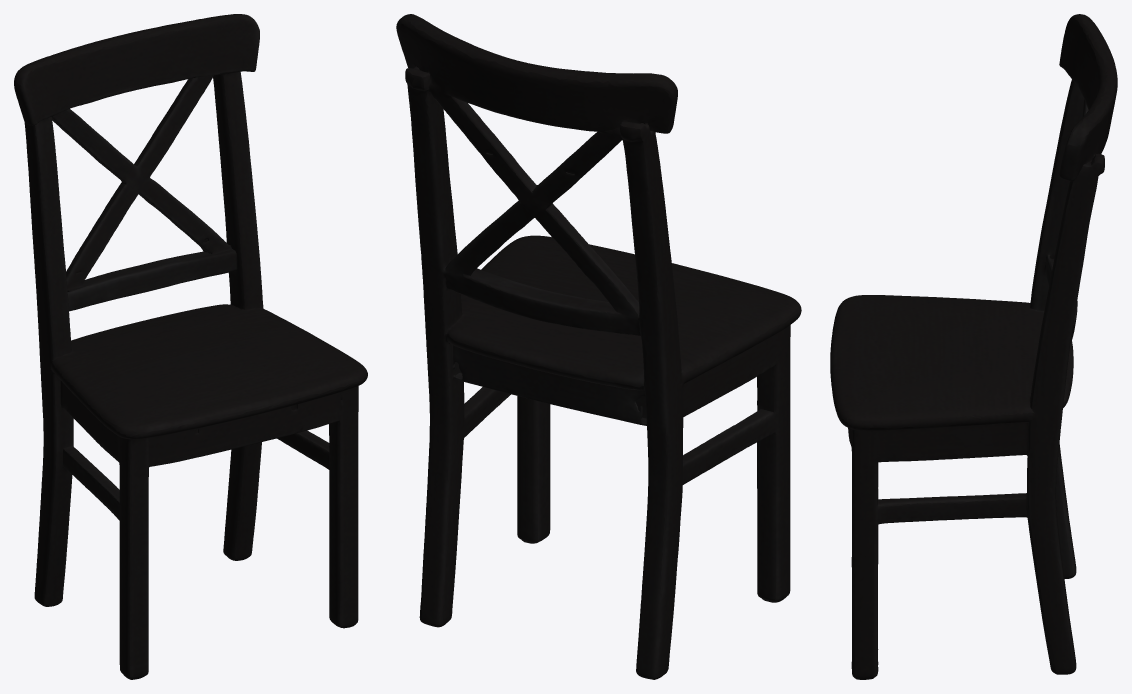
Rendered from item_ccde9378.glb.
3 views of the same model, side by side, from view 1: azimuth 30°, elevation 25°; view 2: azimuth 150°, elevation 25°; view 3: azimuth 270°, elevation 25° (orthographic). The views are drawn at different scales.
Parts seen in each view (by area): view 1: world; view 2: world; view 3: world.
Boxes of the visible parts, left/top/right/bottom form: world: left=14, top=14, right=367, bottom=679; world: left=396, top=14, right=801, bottom=679; world: left=830, top=14, right=1117, bottom=679.
Bounding box in the file's own units: 0.4421 × 0.9 × 0.423.
1 material, 1 textured.
